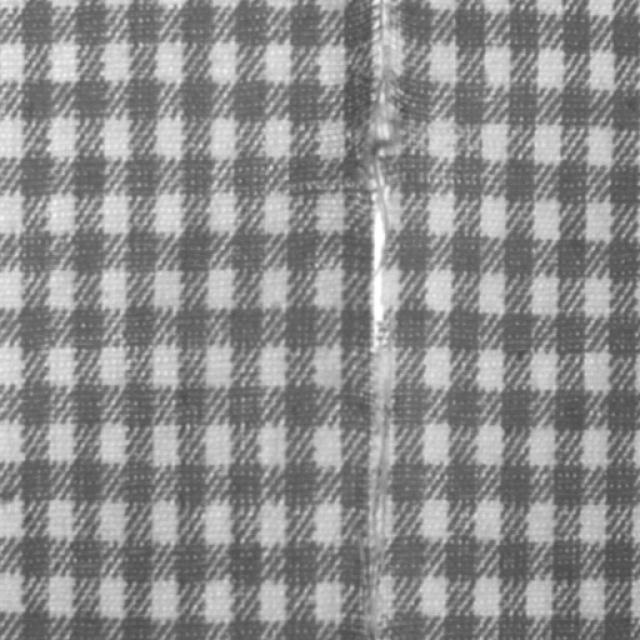Hole-Defect: (368, 0, 396, 609)
